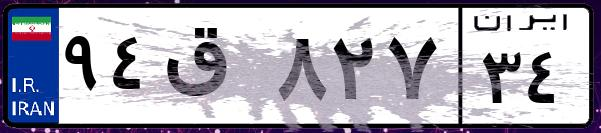2: (330, 28, 385, 110)
3: (475, 38, 525, 113)
4: (525, 38, 570, 115), (110, 28, 158, 98)
7: (385, 28, 445, 110)
8: (270, 28, 330, 110)
9: (57, 26, 110, 100)
ق: (158, 20, 270, 120)
